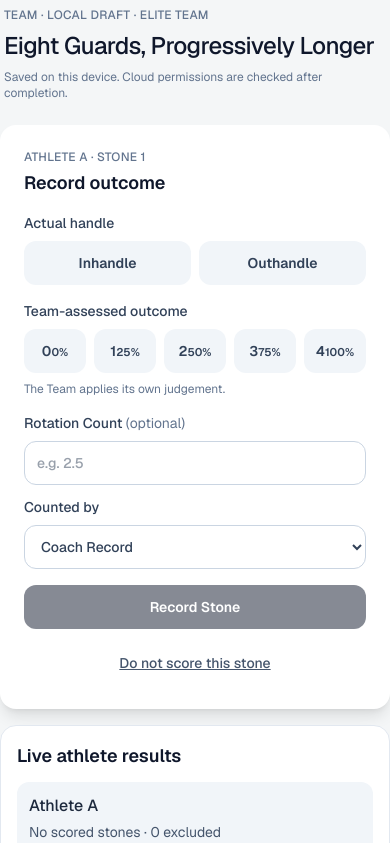
Scenario: ExerciseTeamExecutionScreen › annuls a mistakenly recorded stone only after confirmation and removes it from live calculations
What coordinates should you click on to do the following:
click the button "Inhandle"
I would click on:
 (108, 263)
Its box is [24,241,191,285].
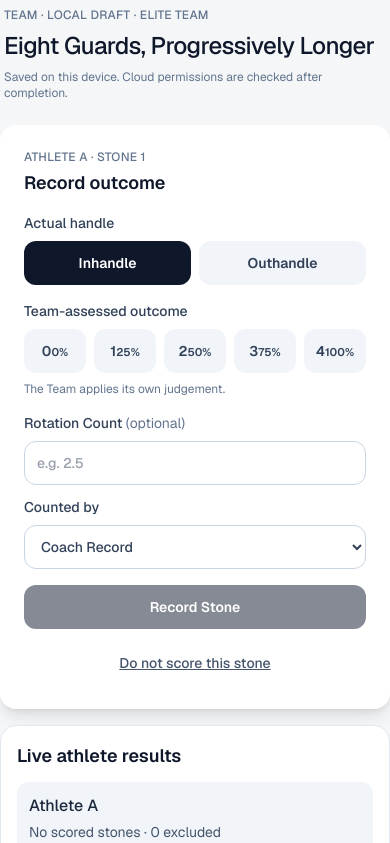
What coordinates should you click on to do the following:
click the button named "3 points, 75 percent"
I would click on:
 (265, 351)
Its box is [234,329,296,373].
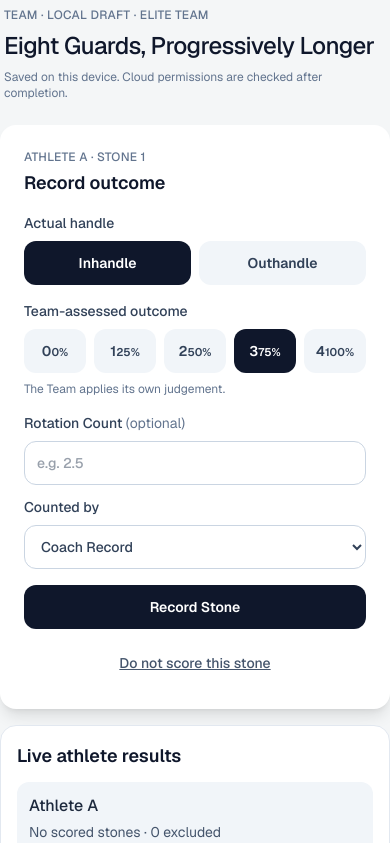
What coordinates should you click on to do the following:
click the button "Record Stone"
I would click on:
 (195, 607)
Its box is [24,585,366,629].
(page scrolled)
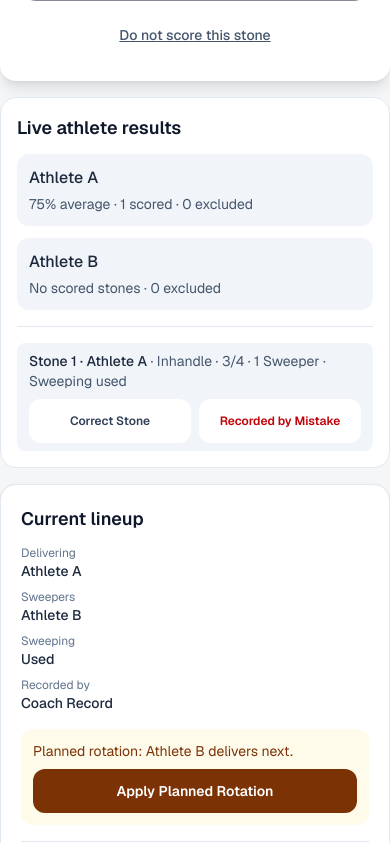
Now the text "75% average · 1 scored · 0 excluded" is shown, box [29,195,253,213]
What coordinates should you click on to do the following:
click the button "Recorded by Mistake"
I would click on:
 (280, 421)
Its box is [199,399,361,443].
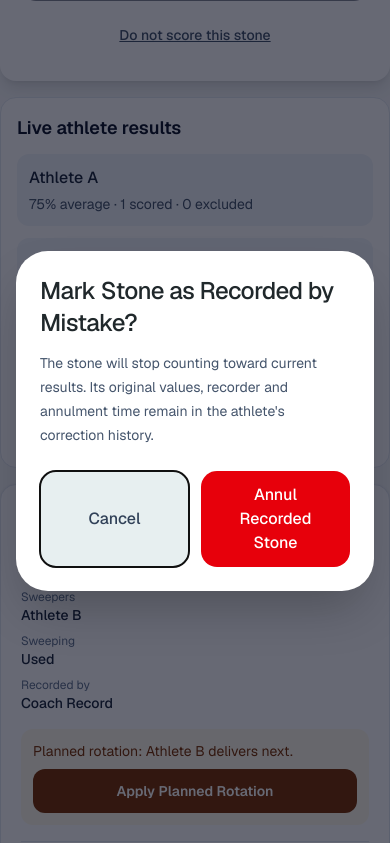
Now the dialog shows "stop counting", box [40,354,317,444]
What coordinates should you click on to do the following:
click the button "Annul Recorded Stone"
I would click on:
 (276, 519)
Its box is [201,471,350,567].
(page scrolled)
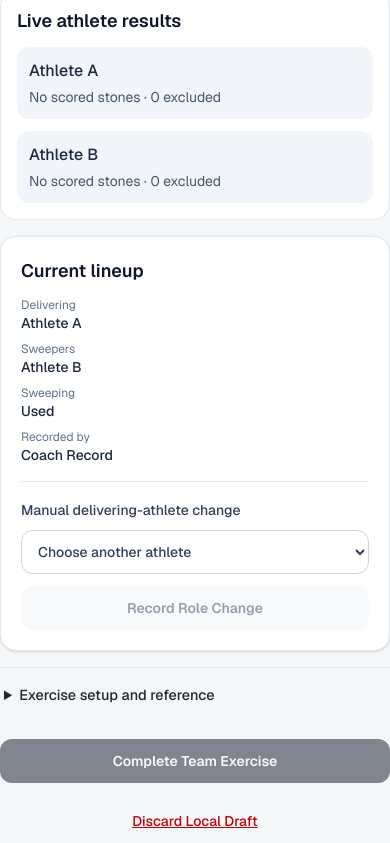
Expected: the text "No scored stones · 0 excluded" is shown 2 times, [29,88,221,106]; [29,172,221,190]
Now the text "Stone 1 · Athlete A" is gone
Now the button "Complete Team Exercise" is disabled, box [0,739,389,783]
